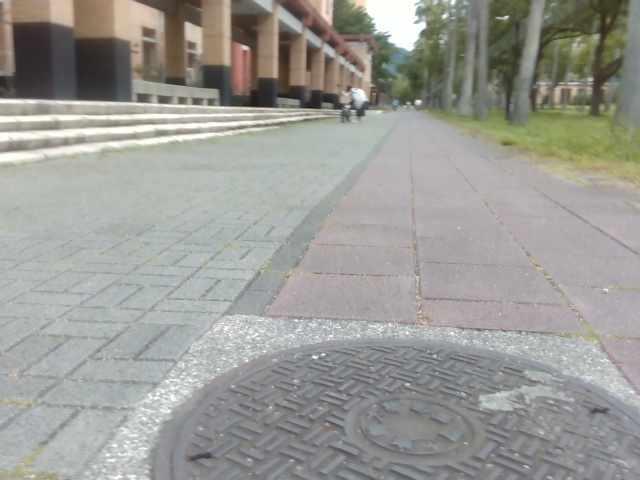grass: (333, 0, 629, 123), (423, 106, 639, 199)
road: (0, 107, 639, 479)
sidewalk: (0, 103, 339, 168)
